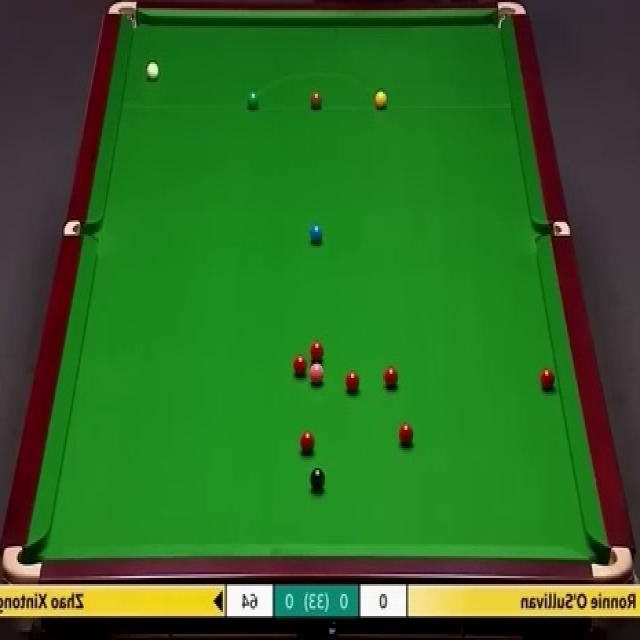black-ball: (309, 467, 326, 492)
blue-ball: (309, 225, 321, 248)
brown-ball: (310, 93, 322, 110)
green-ball: (247, 90, 258, 110)
pink-ball: (309, 361, 325, 387)
red-ball: (396, 422, 414, 450), (539, 367, 557, 391), (308, 338, 325, 363), (298, 430, 315, 454), (293, 353, 308, 378), (383, 366, 398, 391), (346, 369, 360, 394)
white-ball: (146, 58, 160, 82)
yellow-ball: (375, 90, 389, 110)
